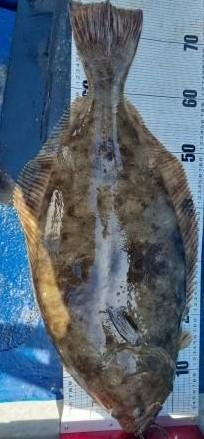fish: (12, 2, 199, 437)
